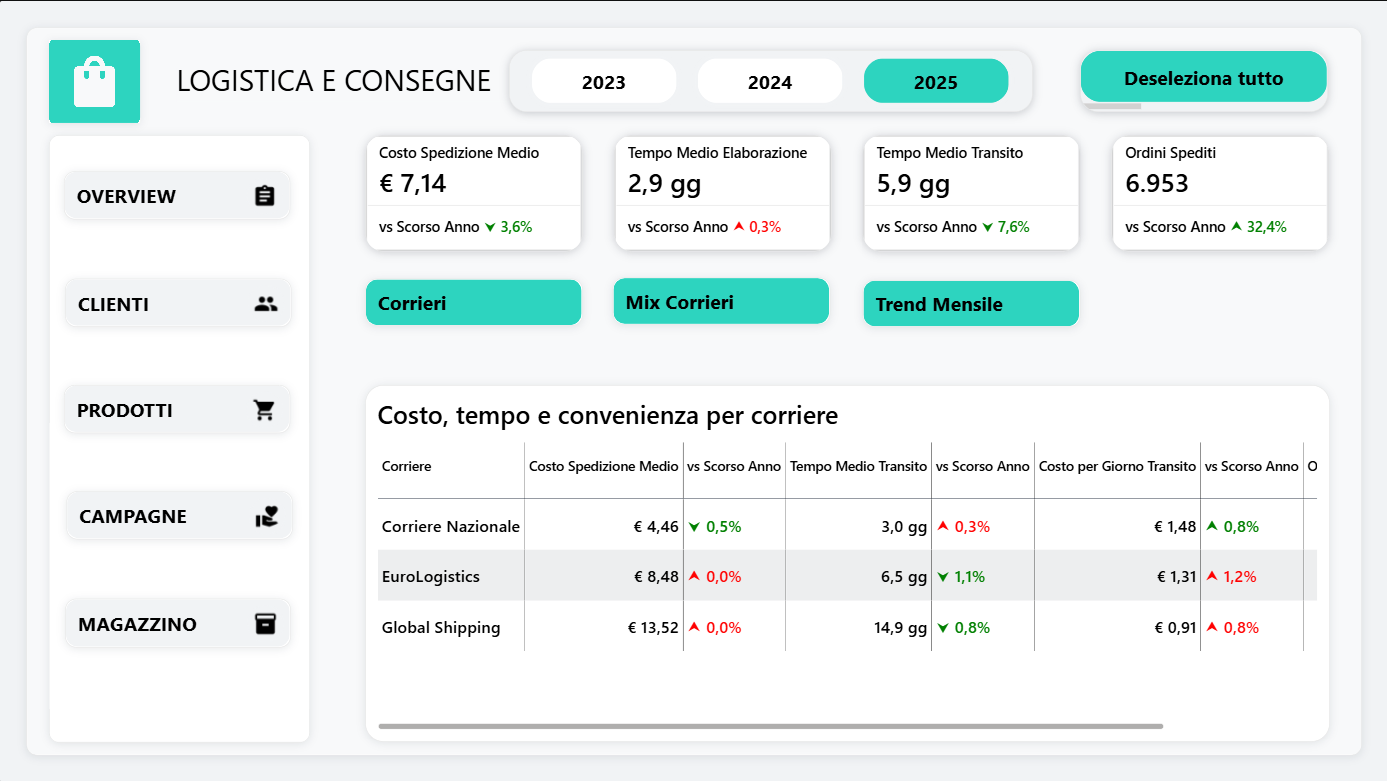

Layout of this report page (visuals, bound fields, positions):
{"tool":"powerbi","page":{"name":"Logistica","canvas":[1920,1080],"ordinal":4},"visuals":[{"type":"shape","box":[38.2,38.2,1841.8,1003.6],"z":0},{"type":"shape","box":[69.1,185.5,360,838.2],"z":1000},{"type":"actionButton","box":[89.1,236.4,312,66],"z":2000},{"type":"actionButton","box":[91.5,383.6,312,66],"z":3000},{"type":"actionButton","box":[90.3,530.9,312,66],"z":4000},{"type":"actionButton","box":[92.7,678.2,312,66],"z":5000},{"type":"actionButton","box":[91.5,825.5,310.9,67.3],"z":6000},{"type":"image","box":[69.1,54.5,125.5,114.5],"z":7000},{"type":"textbox","title":"LOGISTICA E CONSEGNE","box":[244,83.2,821.6,57.9],"z":8000},{"type":"advancedSlicerVisual","fields":{"Values":["Data.Anno"]},"box":[704,68.8,722.1,85.5],"z":9000},{"type":"advancedSlicerVisual","fields":{"Values":["gold dim_corriere.corriere"]},"box":[1491.2,68.8,341.9,85.5],"z":10000},{"type":"cardVisual","fields":{"Data":["gold dim_corriere.Costo Spedizione Medio"]},"box":[504.9,185.8,300,161.1],"z":11000},{"type":"cardVisual","fields":{"Data":["gold dim_corriere.Tempo Medio Elaborazione"]},"box":[848,185.9,300,161.1],"z":12000},{"type":"cardVisual","fields":{"Data":["gold dim_corriere.Tempo Medio Transito"]},"box":[1191.1,186.1,300,161.1],"z":13000},{"type":"cardVisual","fields":{"Data":["gold dim_corriere.Ordini Spediti"]},"box":[1534.2,186.2,300,161.1],"z":14000},{"type":"actionButton","box":[504.9,383.6,299.8,65.2],"z":15000},{"type":"tableEx","title":"Costo, tempo e convenienza per corriere","fields":{"Values":["gold dim_corriere.corriere","gold dim_corriere.Costo Spedizione Medio","gold dim_corriere.vs Scorso Anno Costo Spedizione Medio","gold dim_corriere.Tempo Medio Transito","gold dim_corriere.vs Scorso Anno Tempo Transito","gold dim_corriere.Costo per Giorno Transito","gold dim_corriere.vs Scorso Anno Costo per Giorno","gold dim_corriere.Ordini Spediti","gold dim_corriere.vs Scorso Anno Ordini Spediti"]},"box":[504.9,530.2,1330.1,492.2],"z":16000},{"type":"actionButton","box":[847.2,383.6,299.8,65.2],"z":17000},{"type":"actionButton","box":[1191.6,385.4,299.8,65.2],"z":18000}]}

Visuals, with their boxes in screenshot pixels (x1, y1, x2, y2), scaled from the page's 1920x1080 canvas onto the 1387x781 screenshot:
shape: region(28, 28, 1358, 753)
shape: region(50, 134, 310, 740)
actionButton: region(64, 171, 290, 219)
actionButton: region(66, 277, 291, 325)
actionButton: region(65, 384, 291, 432)
actionButton: region(67, 490, 292, 538)
actionButton: region(66, 597, 291, 646)
image: region(50, 39, 141, 122)
"LOGISTICA E CONSEGNE" textbox: region(176, 60, 770, 102)
advancedSlicerVisual - Data.Anno: region(509, 50, 1030, 112)
advancedSlicerVisual - gold dim_corriere.corriere: region(1077, 50, 1324, 112)
cardVisual - gold dim_corriere.Costo Spedizione Medio: region(365, 134, 581, 251)
cardVisual - gold dim_corriere.Tempo Medio Elaborazione: region(613, 134, 829, 251)
cardVisual - gold dim_corriere.Tempo Medio Transito: region(860, 135, 1077, 251)
cardVisual - gold dim_corriere.Ordini Spediti: region(1108, 135, 1325, 251)
actionButton: region(365, 277, 581, 325)
"Costo, tempo e convenienza per corriere" tableEx: region(365, 383, 1326, 739)
actionButton: region(612, 277, 829, 325)
actionButton: region(861, 279, 1077, 326)
